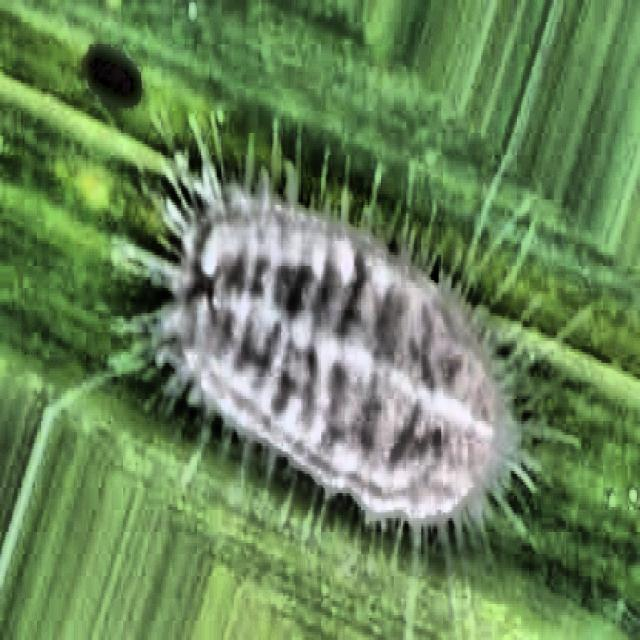Mealy-bug: (141, 126, 553, 592)
